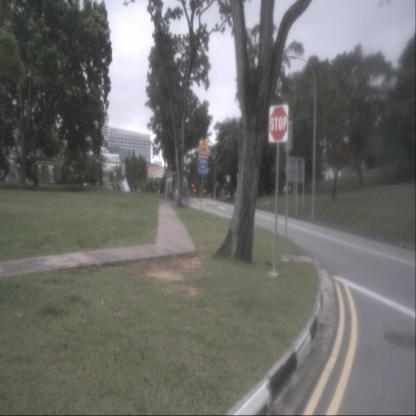vehicle-bicycle: (177, 190, 191, 209)
